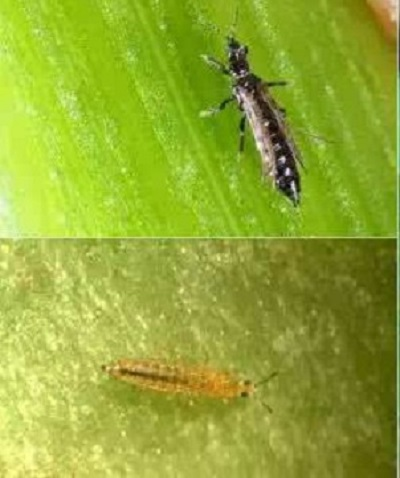Phlaeothripidae: (194, 34, 336, 213)
